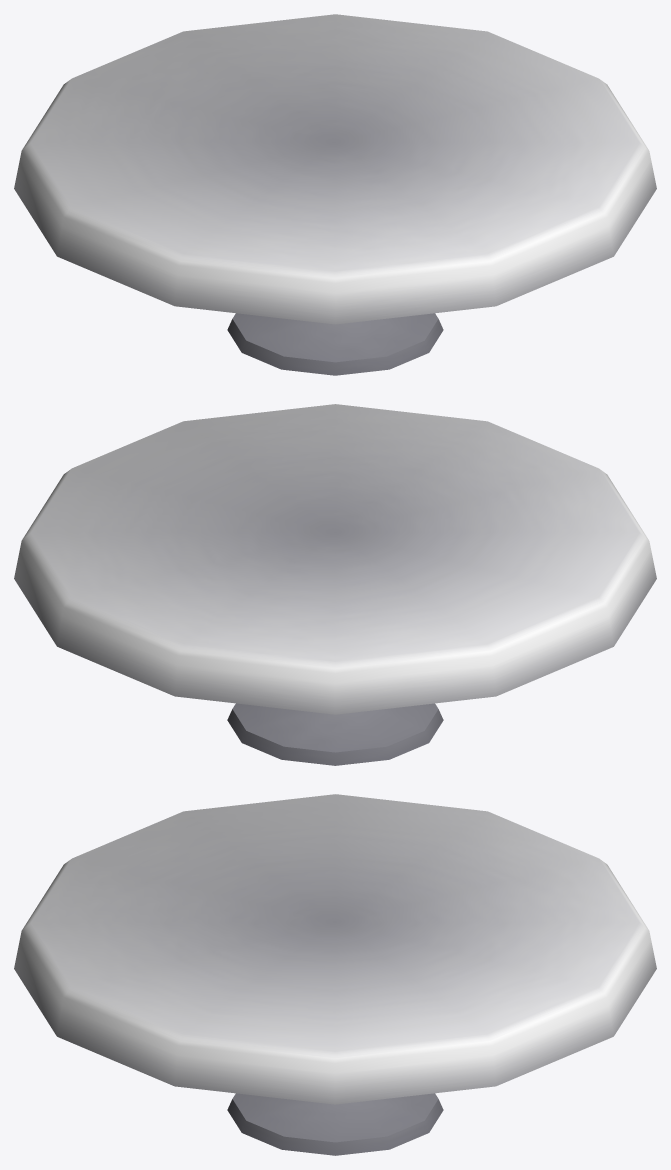
Rendered from m_CakeStand03.fbx.
3 views of the same model, one above another, from view 1: azimuth 30°, elevation 25°; view 2: azimuth 150°, elevation 25°; view 3: azimuth 270°, elevation 25° (orthographic).
Visible parts, largest first — view 1: m_CakeStand03; view 2: m_CakeStand03; view 3: m_CakeStand03.
Boxes of the visible parts, <box> form: m_CakeStand03: <box>14,14,656,375</box>; m_CakeStand03: <box>14,404,656,765</box>; m_CakeStand03: <box>14,794,656,1155</box>.
Size of the model in its own units: 34.21 by 11 by 34.21.
